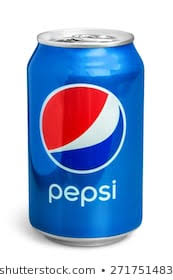Pepsi: (19, 30, 149, 252)
